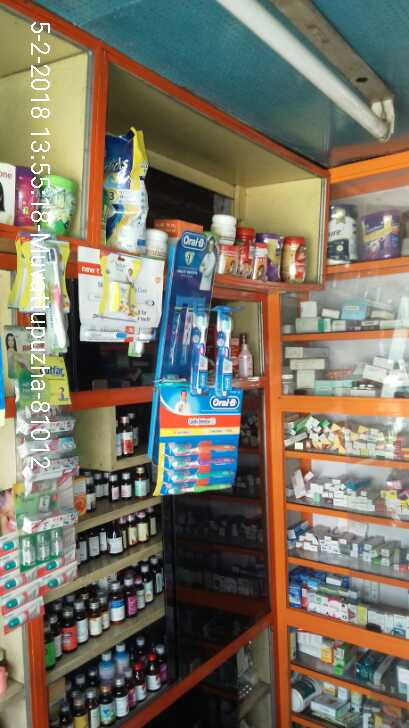oralb: (162, 436, 246, 496), (183, 304, 208, 397), (214, 306, 237, 399)
